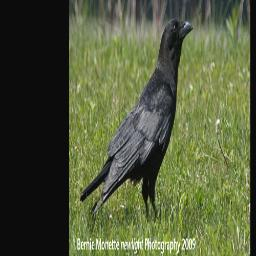Crow: (79, 17, 194, 227)
